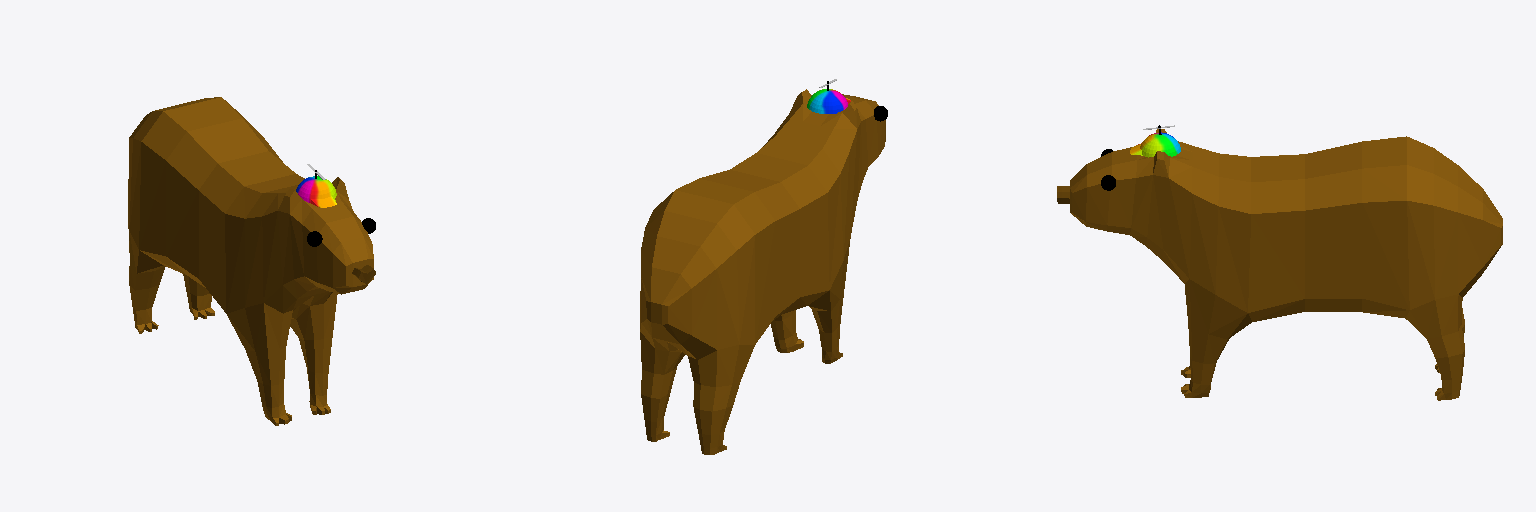
3 renders of one model, left to right at view 1: azimuth 30°, elevation 25°; view 2: azimuth 150°, elevation 25°; view 3: azimuth 270°, elevation 25°, orthographic.
Parts seen in each view (by area): view 1: Body, Sphere; view 2: Body, Sphere; view 3: Body, Sphere.
Boxes of the visible parts, box(x1,y1,x2,y2) form: Body: box(128, 97, 373, 425); Sphere: box(296, 176, 336, 207); Body: box(640, 89, 885, 454); Sphere: box(807, 89, 850, 113); Body: box(1070, 129, 1502, 400); Sphere: box(1130, 132, 1180, 157).
Size of the model in its own units: 1.23 by 2.95 by 4.58.
6 materials, 3 textured.